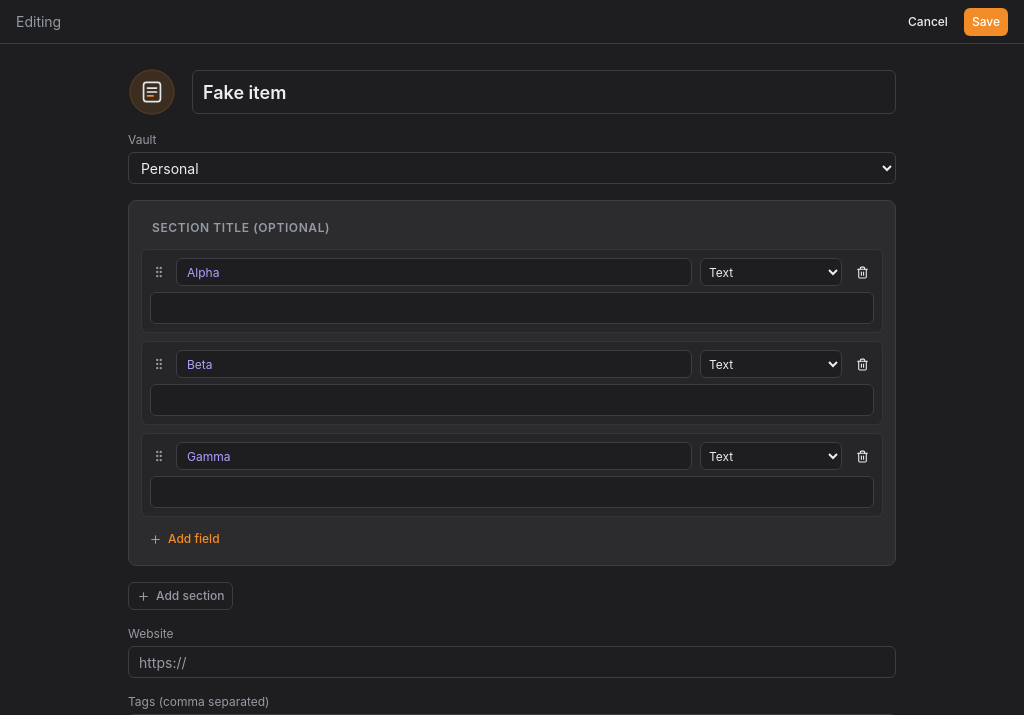
Test: Item editor: add field menu, reorder and undo › menu item URL adds a url field with the default label and focuses the label
The width and height of the screenshot is (1024, 715).
Press Enter in the button "Add field", box left=141, top=525, right=228, bottom=553
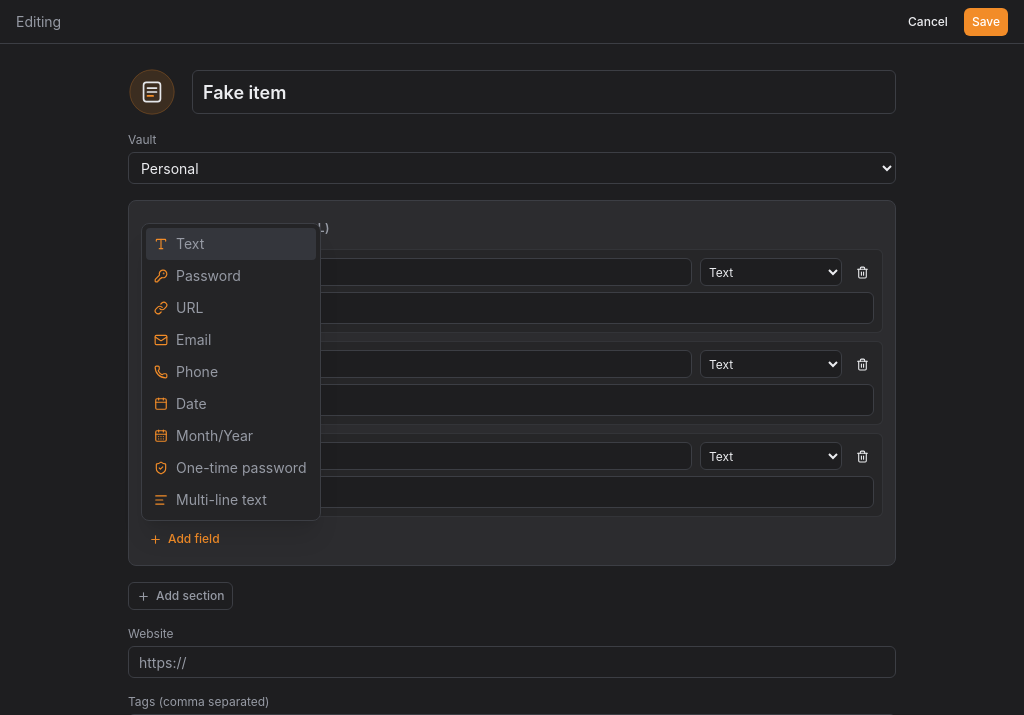
Click the menu item "URL": click(179, 308) left=154, top=299, right=203, bottom=316
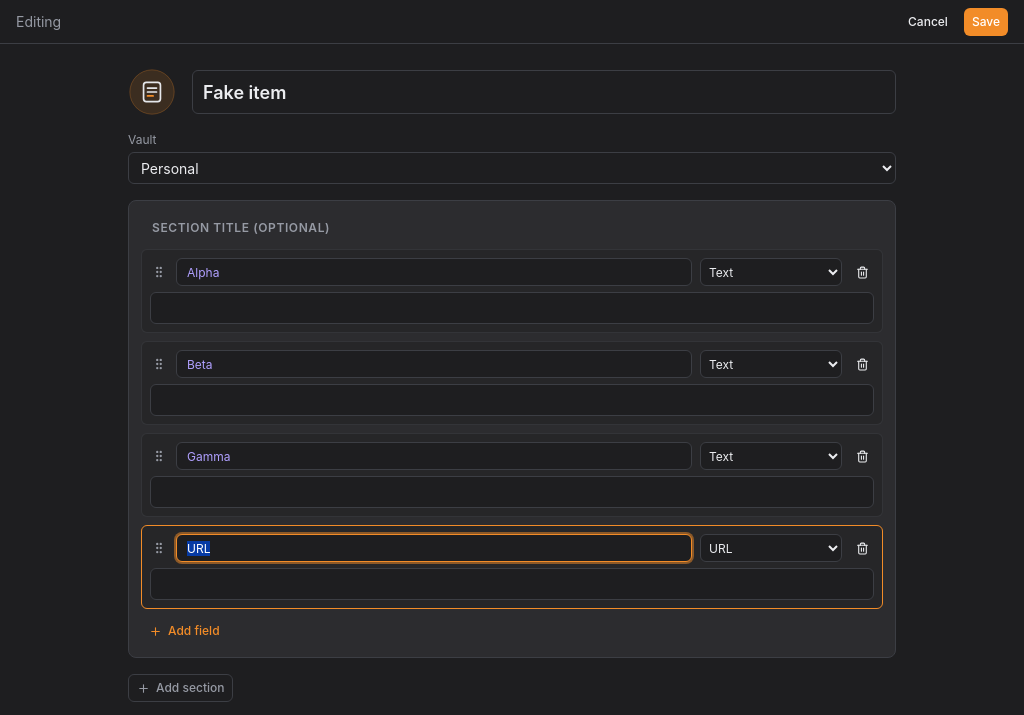
Result: the number of elements with test id "field-editor" is 4 at left=141, top=249, right=883, bottom=333; left=141, top=341, right=883, bottom=425; left=141, top=433, right=883, bottom=517; left=141, top=525, right=883, bottom=609
Result: the 4th dropdown named "Field type" shows "URL" at left=700, top=534, right=842, bottom=562
Result: the 4th field named "Field label" holds "URL" at left=176, top=534, right=692, bottom=562
